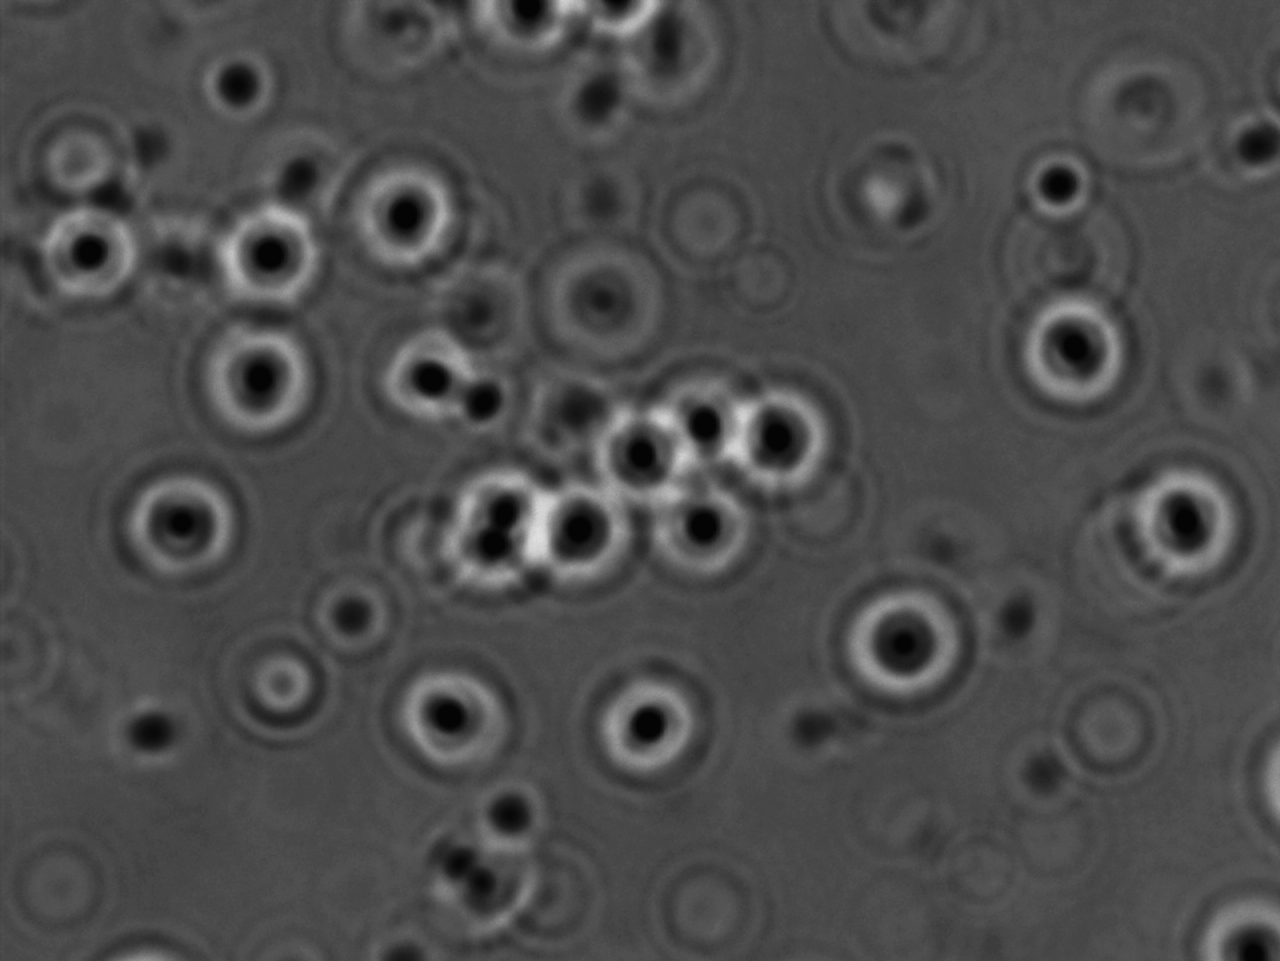depth:-24: (822, 571, 995, 718), (982, 280, 1141, 420), (706, 363, 849, 508), (1123, 452, 1261, 596), (333, 159, 486, 289), (625, 342, 768, 478), (566, 658, 709, 791), (107, 461, 247, 595), (177, 311, 310, 447), (213, 193, 347, 326), (635, 468, 763, 597), (390, 650, 518, 776), (580, 382, 700, 517), (509, 467, 631, 598), (369, 308, 495, 431), (28, 190, 149, 313)
